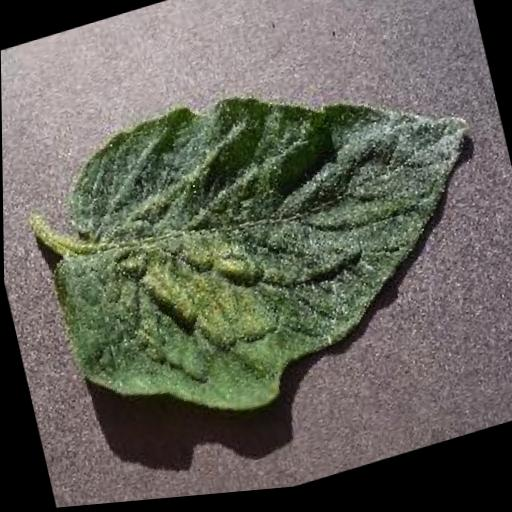Spider Mites: (24, 30, 512, 459)
